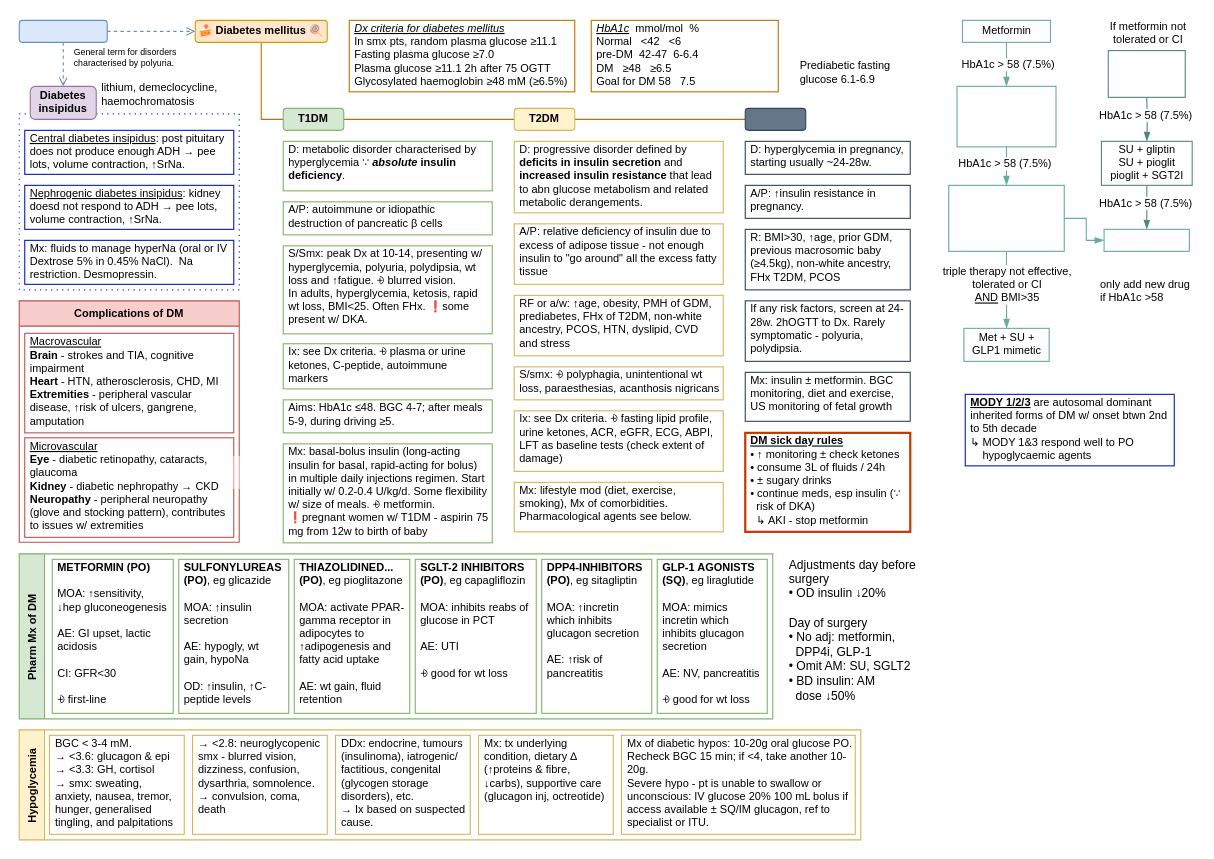
Some shapes in this 1214 by 859 pixel diagram are drawn without their labels. The shapes that lost their labels are listed below. From the top down, each one's centre as x and y in pixels, then its label:
At [62,30]: "🚽 Diabetes 💦".
At [1146,73]: "Gliptin SU Pioglitazone".
At [775,118]: "GDM".
At [1006,116]: "+ SU OR gliptin OR pioglitazone OR SGLT-2I".
At [1006,217]: "Met + SU + gliptin Met + SU + pioglit Met + SU + SGT2I Met + pioglit + SGT2I".
At [1146,239]: "Insulin".
At [249,471]: "ACR for screening".
